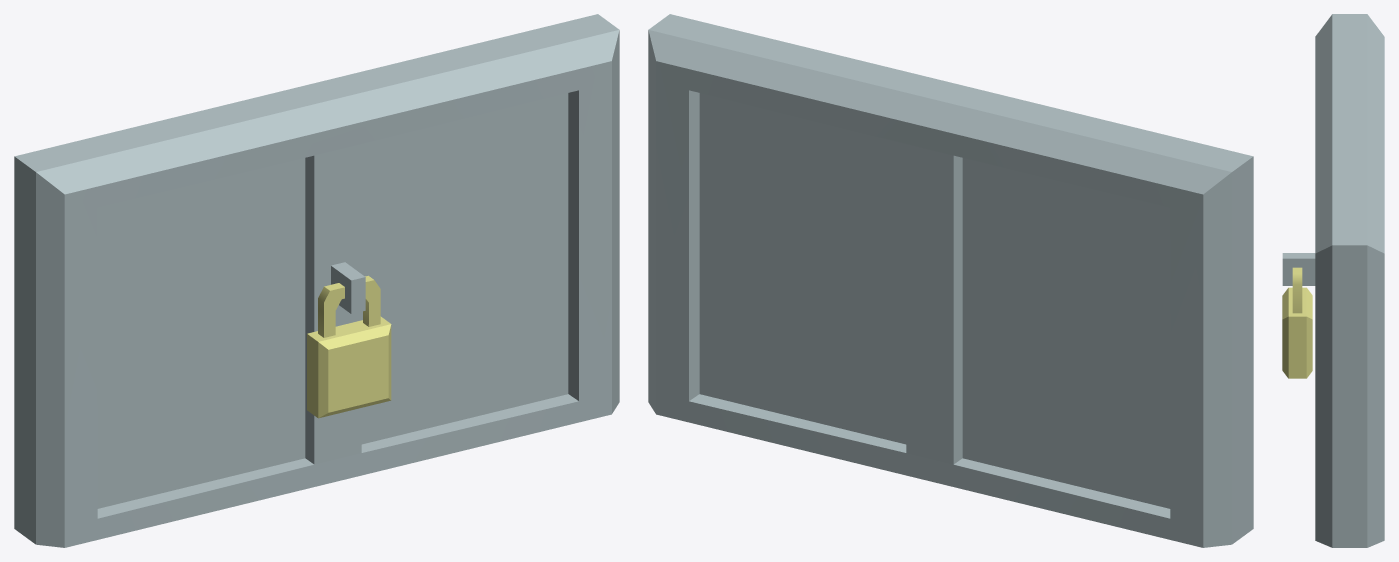
File: MetalDoor.fbx
The picture shows the model from 3 angles, left to right: view 1: azimuth 30°, elevation 25°; view 2: azimuth 150°, elevation 25°; view 3: azimuth 270°, elevation 25°; orthographic projection. The views are drawn at different scales.
Parts seen in each view (by area): view 1: Door1; view 2: Door1; view 3: Door1.
Part boxes in pixels (left/top/right/bottom): Door1: left=14, top=14, right=619, bottom=547; Door1: left=648, top=14, right=1253, bottom=547; Door1: left=1282, top=14, right=1384, bottom=547.
Size of the model in its own units: 2394 by 1461 by 447.
